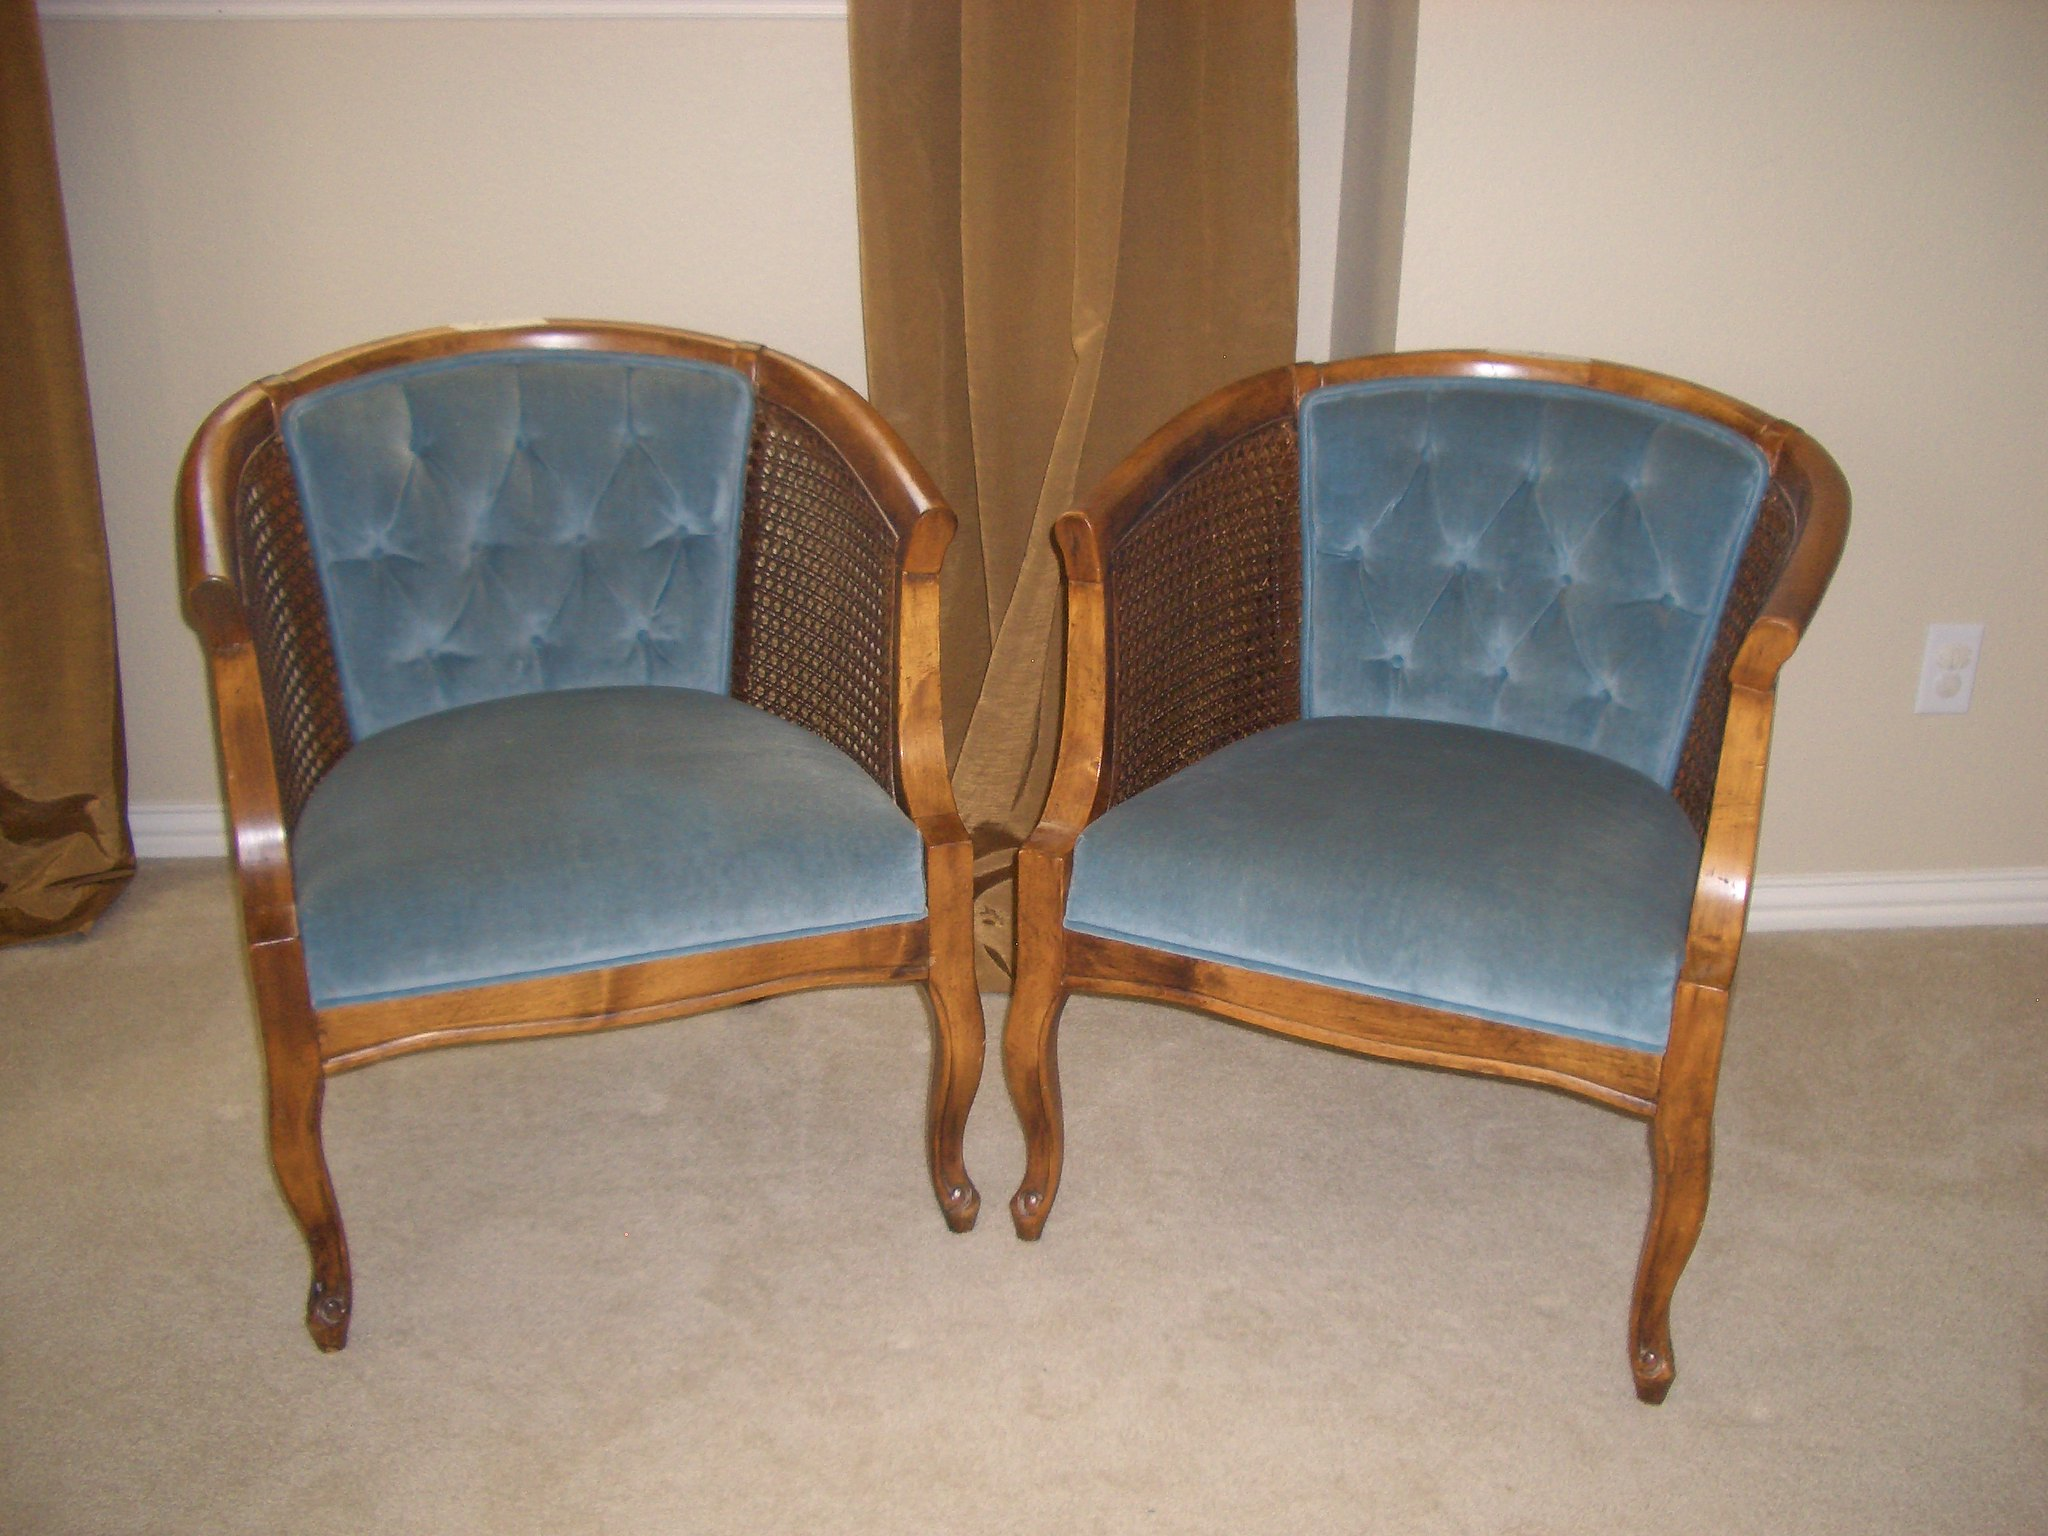chair: (993, 294, 1872, 1396), (123, 298, 1009, 1342)
